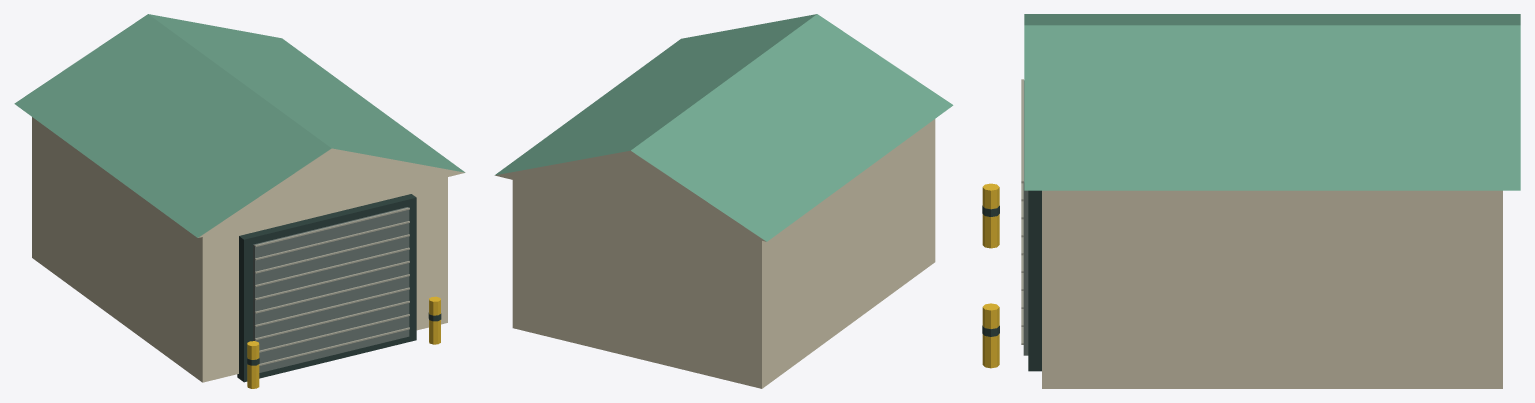
The model's file is Garage.obj.
3 views of the same model, side by side, from view 1: azimuth 30°, elevation 25°; view 2: azimuth 150°, elevation 25°; view 3: azimuth 270°, elevation 25° (orthographic). The views are drawn at different scales.
Visible parts, largest first — view 1: Garage; view 2: Garage; view 3: Garage.
Boxes of the visible parts, x1=… form: Garage: x1=14, y1=14, x2=465, y2=388; Garage: x1=494, y1=14, x2=953, y2=388; Garage: x1=982, y1=14, x2=1520, y2=388.
Bounding box in the file's own units: 5.9 × 4.5 × 7.59.
